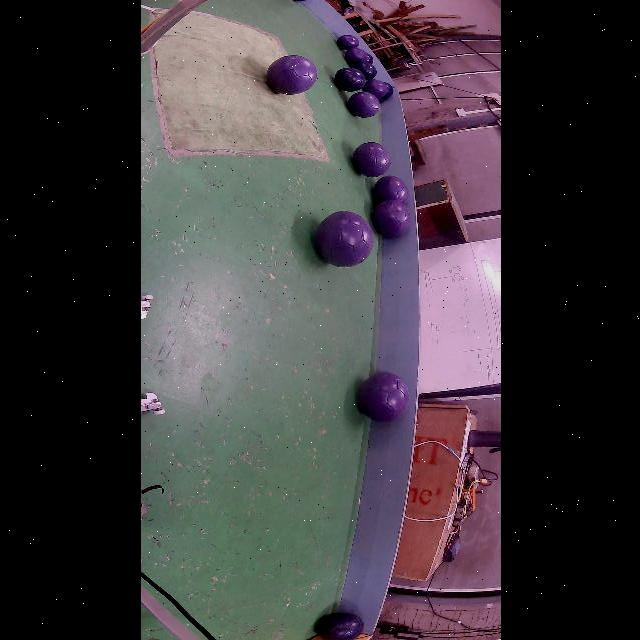B: (316, 612, 362, 640), (334, 68, 365, 91), (352, 62, 376, 80), (336, 35, 359, 50), (366, 54, 372, 64)
P: (315, 211, 372, 268), (358, 372, 409, 421), (372, 176, 410, 238), (266, 55, 316, 95), (351, 142, 390, 178), (348, 91, 379, 118), (361, 79, 388, 99), (344, 48, 368, 64)
